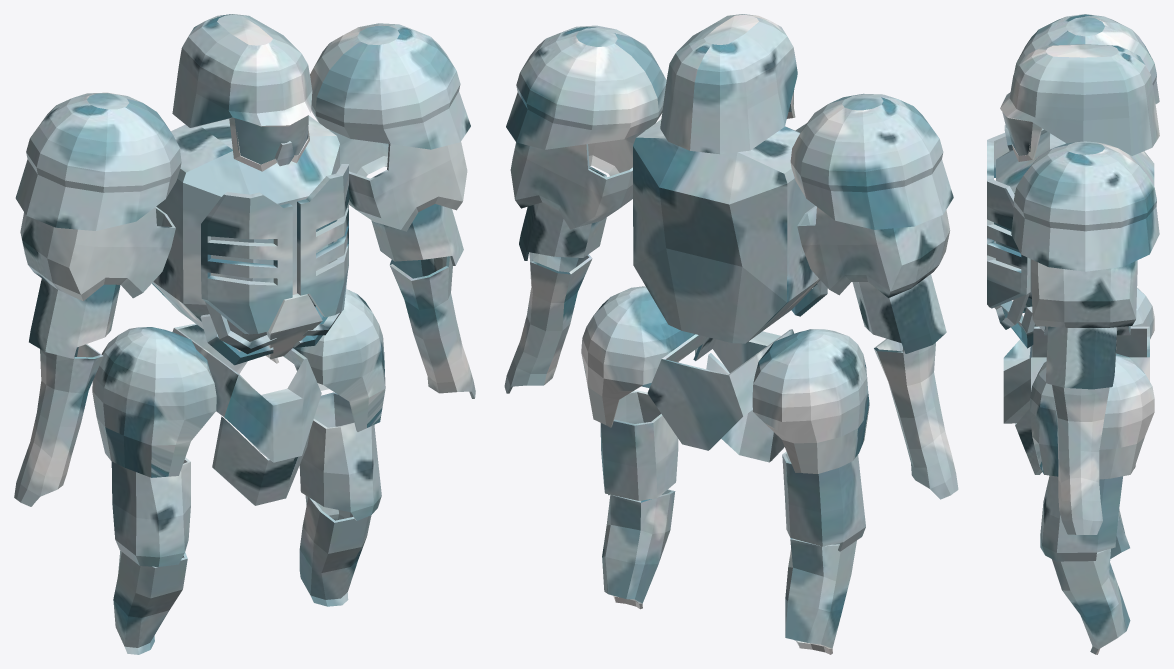
The model's file is Armadura2.fbx.
3 renders of one model, left to right at view 1: azimuth 30°, elevation 25°; view 2: azimuth 150°, elevation 25°; view 3: azimuth 270°, elevation 25°, orthographic. The views are drawn at different scales.
Visible parts, largest first — view 1: pSphere19, pSphere22, polySurface4, pSphere20, polySurface5, pPlane22, pPlane21, pPlane27, polySurface1, pCylinder43, pCylinder38, pCylinder39 (+12 smaller); view 2: polySurface4, pSphere19, pSphere22, polySurface5, pSphere20, pPlane21, polySurface1, pSphere21, pPlane27, pCylinder38, pCylinder43, pCylinder41 (+6 smaller); view 3: pSphere22, polySurface5, pSphere21, pCylinder41, pPlane27, pCylinder44, pCylinder42, pPlane26, pCylinder43, polySurface1, pSphere19, polySurface4 (+8 smaller).
Boxes of the visible parts, <box> form: pSphere19: <box>15,92,181,230</box>; pSphere22: <box>310,23,470,149</box>; polySurface4: <box>152,115,339,341</box>; pSphere20: <box>92,327,216,477</box>; polySurface5: <box>172,14,312,127</box>; pPlane22: <box>201,191,292,334</box>; pPlane21: <box>20,206,175,301</box>; pPlane27: <box>328,129,467,231</box>; polySurface1: <box>172,323,321,462</box>; pCylinder43: <box>299,392,381,520</box>; pCylinder38: <box>14,344,103,506</box>; pCylinder39: <box>111,457,190,566</box>; polySurface4: <box>633,119,820,343</box>; pSphere19: <box>790,93,953,229</box>; pSphere22: <box>506,25,666,149</box>; polySurface5: <box>660,14,797,154</box>; pSphere20: <box>752,329,869,473</box>; pPlane21: <box>797,206,950,297</box>; polySurface1: <box>647,329,793,450</box>; pSphere21: <box>581,286,697,427</box>; pPlane27: <box>510,130,645,229</box>; pCylinder38: <box>874,338,958,499</box>; pCylinder43: <box>600,390,678,500</box>; pCylinder41: <box>504,252,592,393</box>; pSphere22: <box>1011,141,1159,271</box>; polySurface5: <box>1000,44,1159,155</box>; pSphere21: <box>1030,353,1154,479</box>; pCylinder41: <box>1052,385,1109,534</box>; pPlane27: <box>1031,259,1137,327</box>; pCylinder44: <box>1052,549,1130,654</box>; pCylinder42: <box>1046,326,1117,389</box>; pPlane26: <box>987,175,1030,308</box>; pCylinder43: <box>1040,475,1122,561</box>; polySurface1: <box>1003,326,1149,423</box>; pSphere19: <box>1014,14,1159,103</box>; polySurface4: <box>996,129,1154,335</box>.
Size of the model in its own units: 352 by 126 by 448.
1 material, 1 textured.
